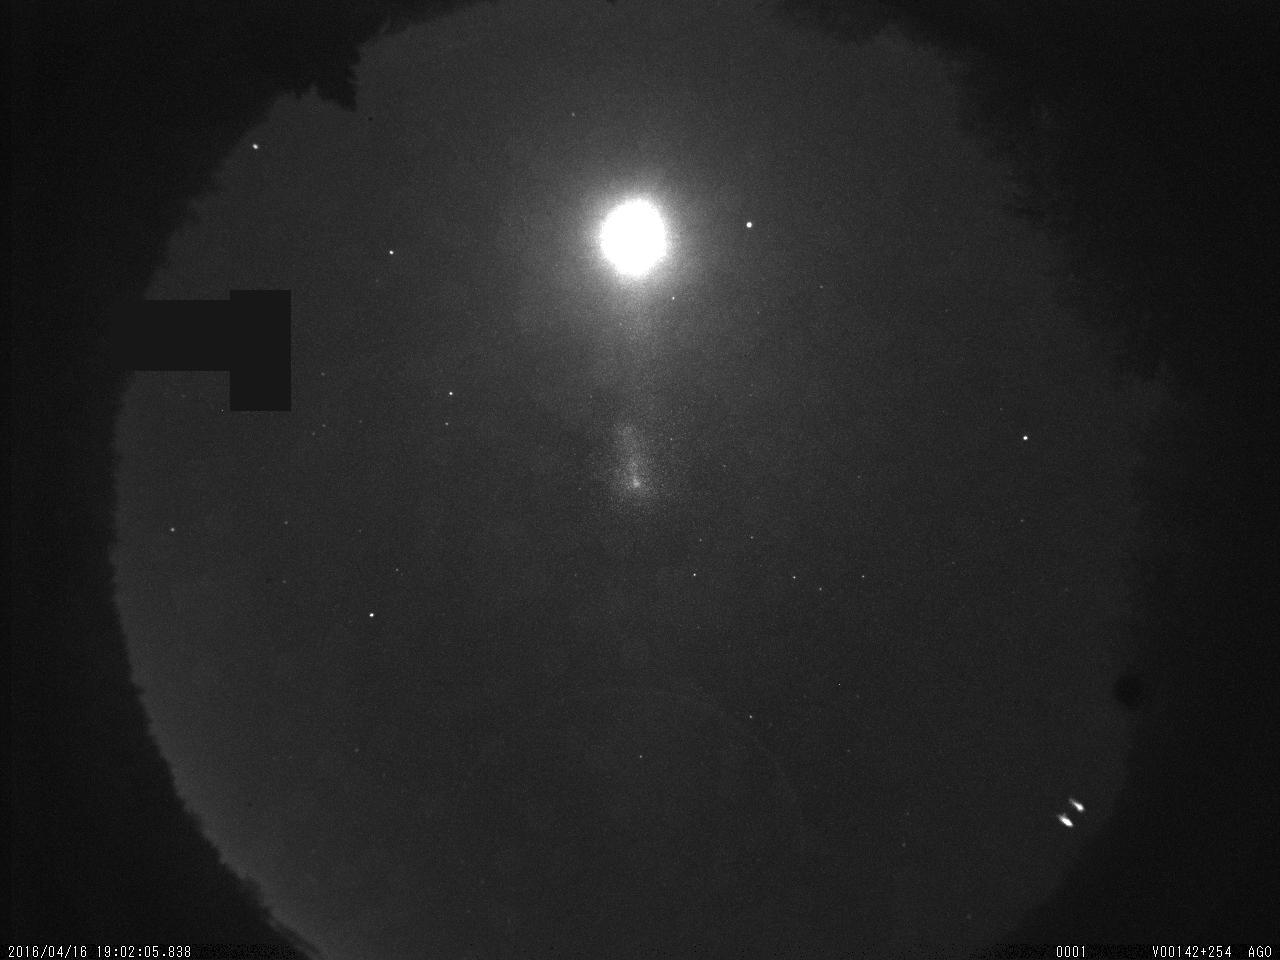meteor: (1047, 778, 1099, 840)
